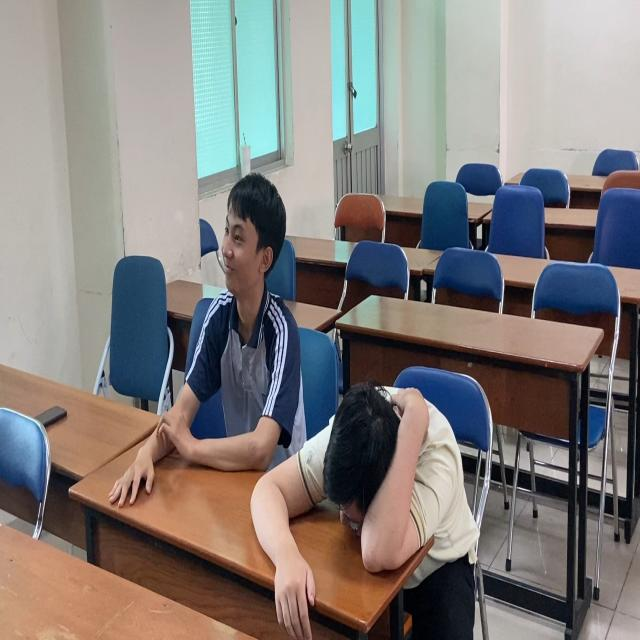sleep: (247, 364, 478, 623)
